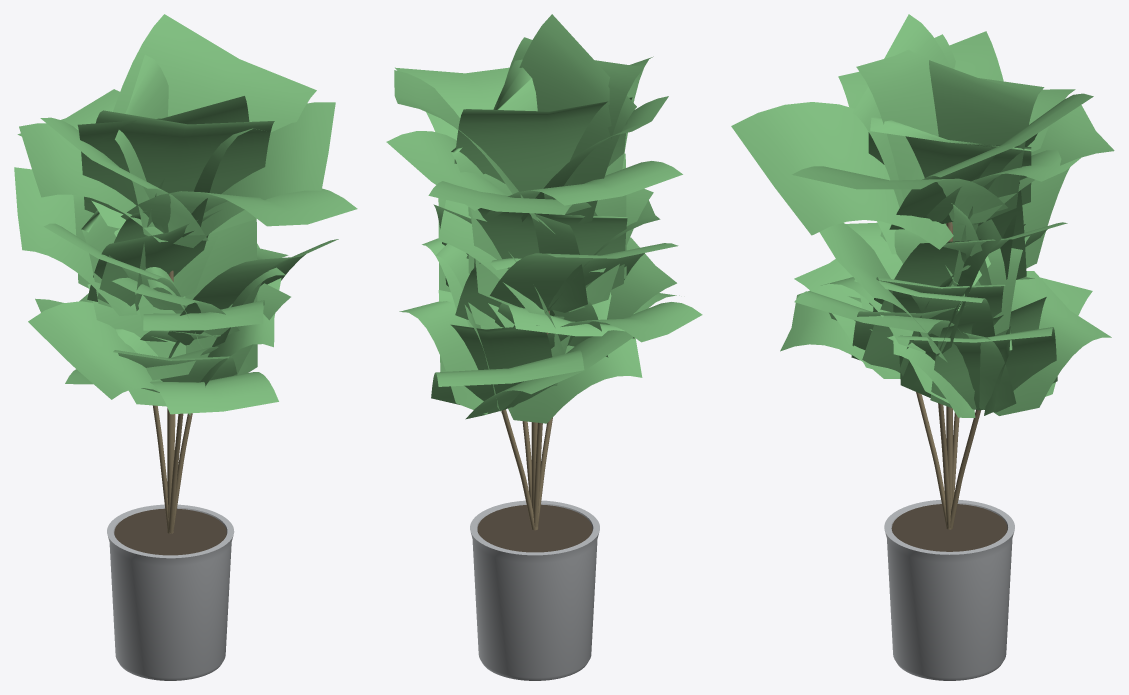
The model's file is corr_palm_b.fbx.
The picture shows the model from 3 angles, left to right: view 1: azimuth 30°, elevation 25°; view 2: azimuth 150°, elevation 25°; view 3: azimuth 270°, elevation 25°; orthographic projection. The views are drawn at different scales.
Visible parts, largest first — view 1: EQ_corr_palm_b_M_PalmFrond, EQ_corr_palm_b_M_PlanterGrey, EQ_corr_palm_b_M_Soil, EQ_corr_palm_b_M_Stem; view 2: EQ_corr_palm_b_M_PalmFrond, EQ_corr_palm_b_M_PlanterGrey, EQ_corr_palm_b_M_Soil, EQ_corr_palm_b_M_Stem; view 3: EQ_corr_palm_b_M_PalmFrond, EQ_corr_palm_b_M_PlanterGrey, EQ_corr_palm_b_M_Soil, EQ_corr_palm_b_M_Stem.
Boxes of the visible parts, left/top/right/bottom form: EQ_corr_palm_b_M_PalmFrond: left=14, top=14, right=357, bottom=415; EQ_corr_palm_b_M_PlanterGrey: left=107, top=504, right=234, bottom=680; EQ_corr_palm_b_M_Soil: left=114, top=508, right=226, bottom=555; EQ_corr_palm_b_M_Stem: left=152, top=270, right=192, bottom=533; EQ_corr_palm_b_M_PalmFrond: left=386, top=14, right=702, bottom=423; EQ_corr_palm_b_M_PlanterGrey: left=470, top=500, right=599, bottom=680; EQ_corr_palm_b_M_Soil: left=477, top=504, right=592, bottom=552; EQ_corr_palm_b_M_Stem: left=501, top=311, right=552, bottom=530; EQ_corr_palm_b_M_PalmFrond: left=731, top=14, right=1114, bottom=417; EQ_corr_palm_b_M_PlanterGrey: left=884, top=499, right=1014, bottom=680; EQ_corr_palm_b_M_Soil: left=891, top=504, right=1007, bottom=551; EQ_corr_palm_b_M_Stem: left=916, top=222, right=980, bottom=529.
Size of the model in its own units: 1.51 by 2.87 by 1.65.
